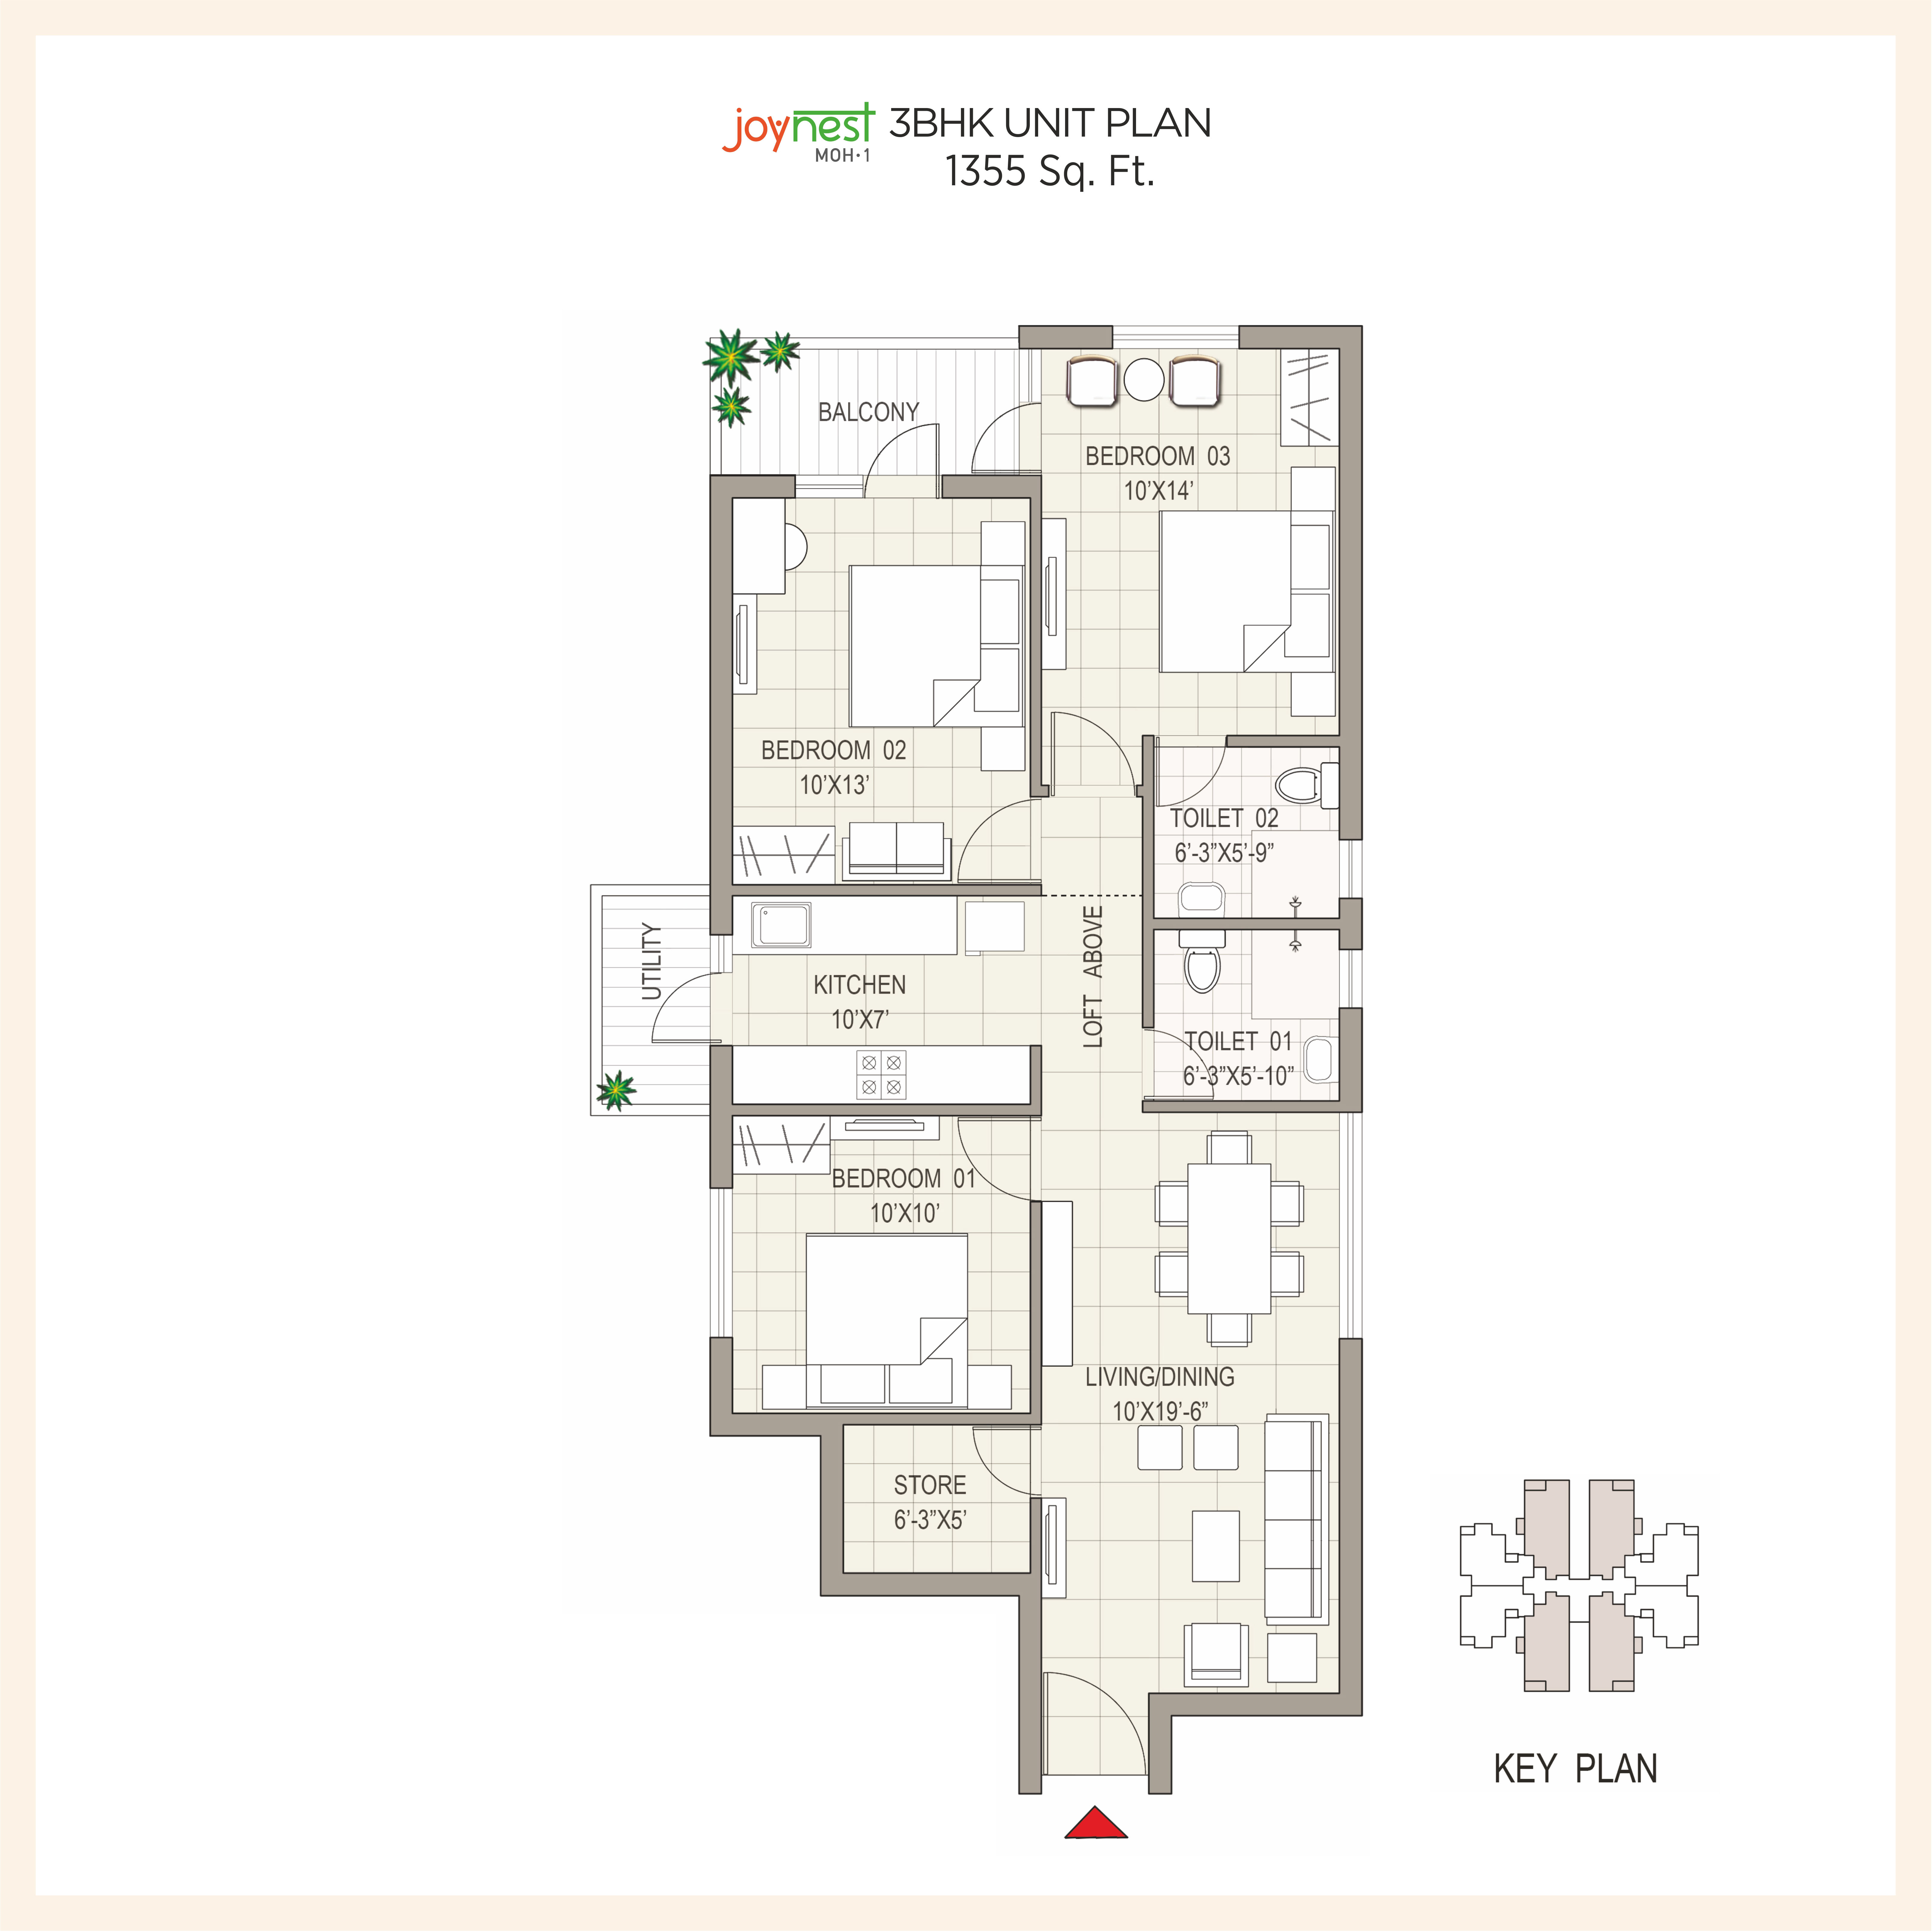wall: (1326, 1349, 1365, 1701), (1335, 347, 1365, 730), (728, 1100, 1043, 1123), (712, 502, 728, 934), (1149, 1696, 1359, 1719), (1025, 1197, 1045, 1416), (822, 1432, 850, 1581), (843, 1409, 1046, 1429), (1020, 1597, 1039, 1788), (1137, 736, 1156, 921), (834, 1574, 1038, 1591), (1147, 912, 1347, 930), (1032, 476, 1043, 806), (1142, 1100, 1359, 1116), (1336, 1004, 1366, 1118), (723, 881, 1043, 891), (725, 1411, 845, 1438), (942, 474, 1046, 499), (1227, 734, 1372, 752), (711, 474, 797, 502), (707, 1335, 730, 1441), (1234, 329, 1361, 347), (1152, 1691, 1172, 1802), (1016, 327, 1110, 350), (1342, 759, 1366, 833), (712, 1112, 735, 1190), (1144, 934, 1160, 1026), (711, 1047, 734, 1111), (1342, 904, 1368, 955), (1025, 1500, 1039, 1593), (1029, 1045, 1043, 1118)
